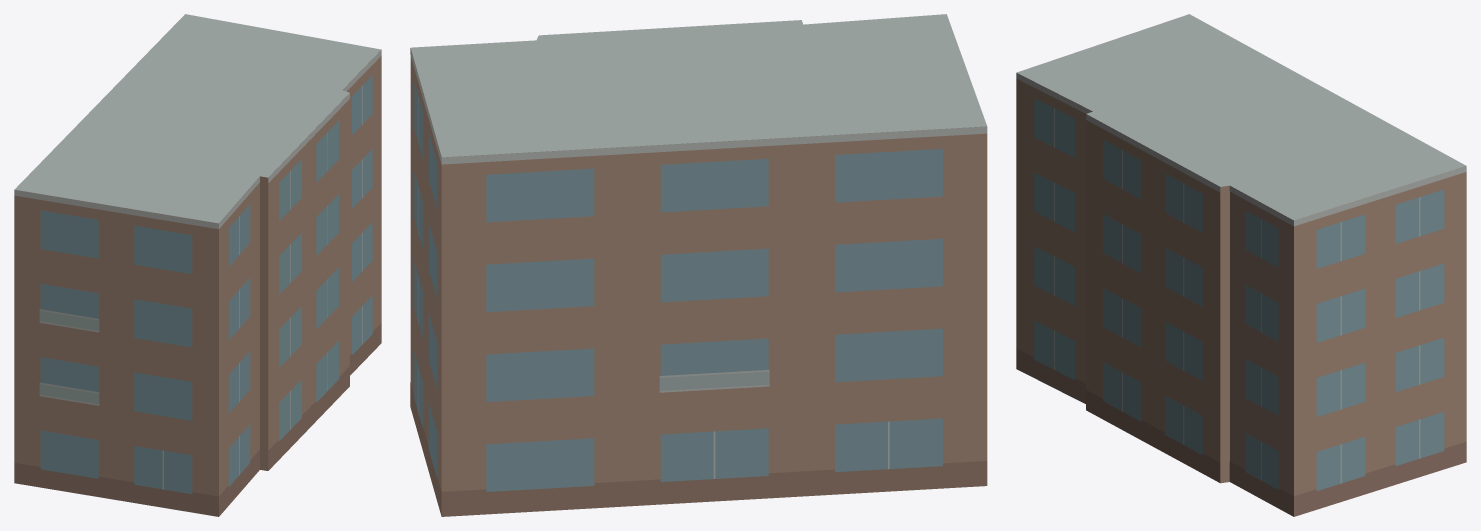
The model's file is survey-upis-32596875.glb.
The picture shows the model from 3 angles, left to right: view 1: azimuth 30°, elevation 25°; view 2: azimuth 150°, elevation 25°; view 3: azimuth 270°, elevation 25°; orthographic projection. The views are drawn at different scales.
Parts seen in each view (by area): view 1: survey-upis-32596875.tmp; view 2: survey-upis-32596875.tmp; view 3: survey-upis-32596875.tmp.
Part boxes in pixels (left/top/right/bottom): survey-upis-32596875.tmp: left=14, top=14, right=381, bottom=516; survey-upis-32596875.tmp: left=410, top=14, right=987, bottom=516; survey-upis-32596875.tmp: left=1016, top=14, right=1466, bottom=516.
Bounding box in the file's own units: 18.24 × 12.2 × 16.81.
